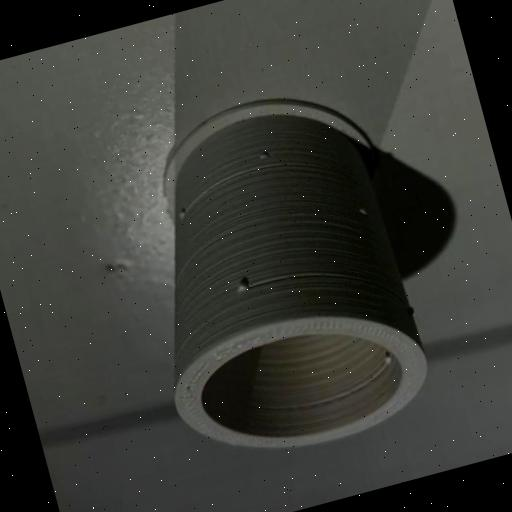blobs: (234, 276, 256, 298), (172, 202, 194, 220), (400, 300, 420, 318), (354, 201, 372, 221), (256, 146, 272, 162), (381, 350, 395, 367)
